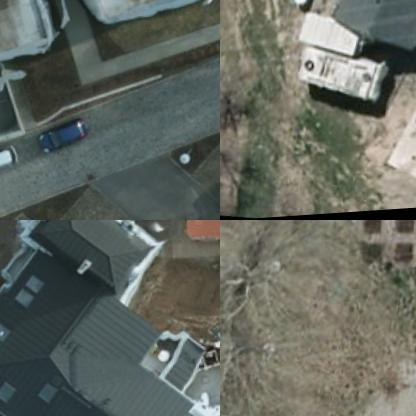camping car: (288, 44, 395, 115), (293, 6, 367, 66)
car: (31, 119, 88, 163), (0, 151, 15, 186)
